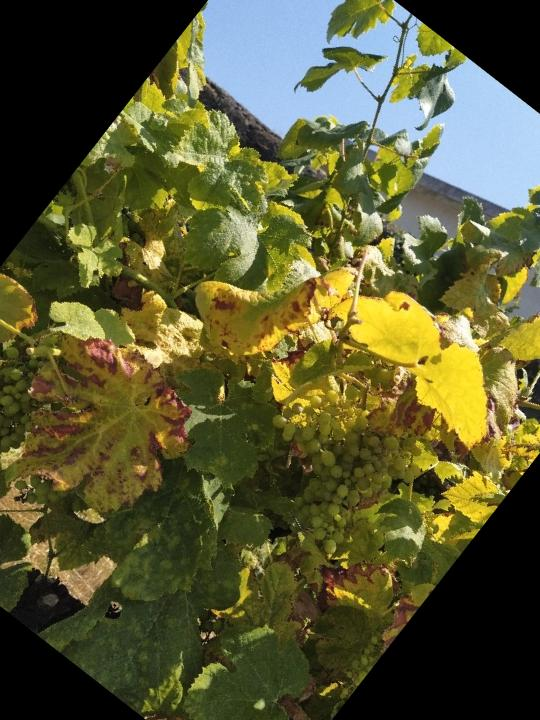grape: (225, 360, 425, 562), (0, 330, 72, 510)
